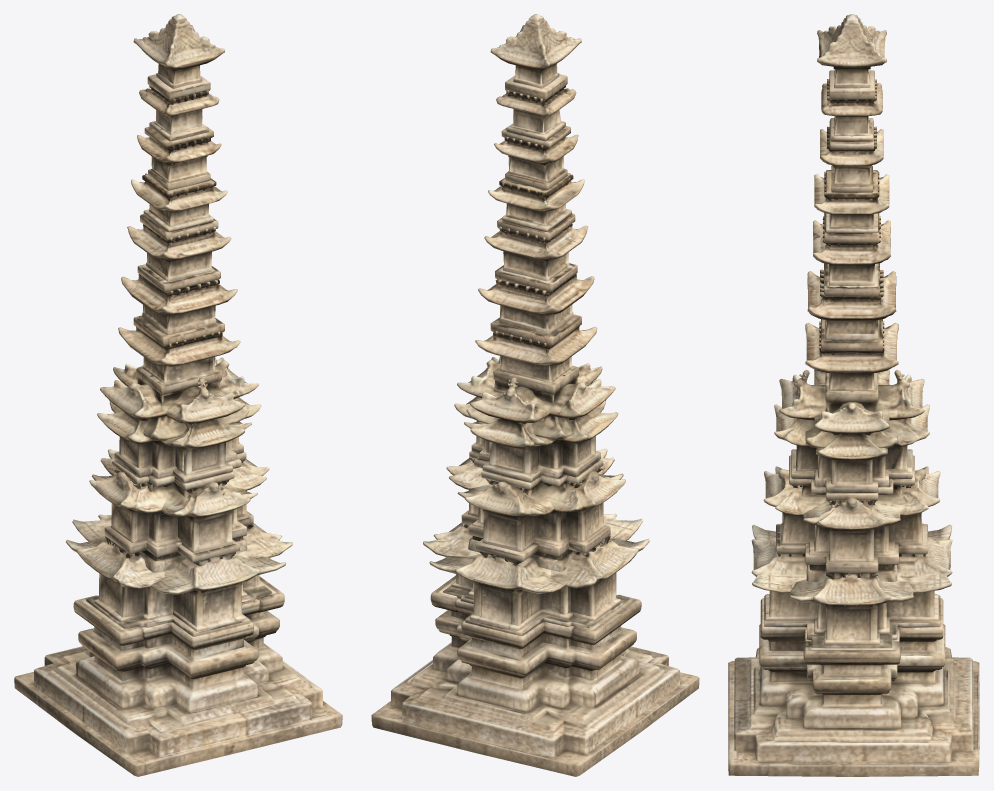
Rendered from stone pagoda.glb.
3 views of the same model, side by side, from view 1: azimuth 30°, elevation 25°; view 2: azimuth 150°, elevation 25°; view 3: azimuth 270°, elevation 25° (orthographic). The views are drawn at different scales.
Visible parts, largest first — view 1: tripo_node_5950a17d-1285-4e30-8247-b76141758005; view 2: tripo_node_5950a17d-1285-4e30-8247-b76141758005; view 3: tripo_node_5950a17d-1285-4e30-8247-b76141758005.
Boxes of the visible parts, x1=… form: tripo_node_5950a17d-1285-4e30-8247-b76141758005: x1=14, y1=14, x2=342, y2=776; tripo_node_5950a17d-1285-4e30-8247-b76141758005: x1=371, y1=14, x2=699, y2=776; tripo_node_5950a17d-1285-4e30-8247-b76141758005: x1=728, y1=14, x2=979, y2=776.
Size of the model in its own units: 0.3149 by 0.9995 by 0.3208.
Materials: 1 (1 with a texture image).
